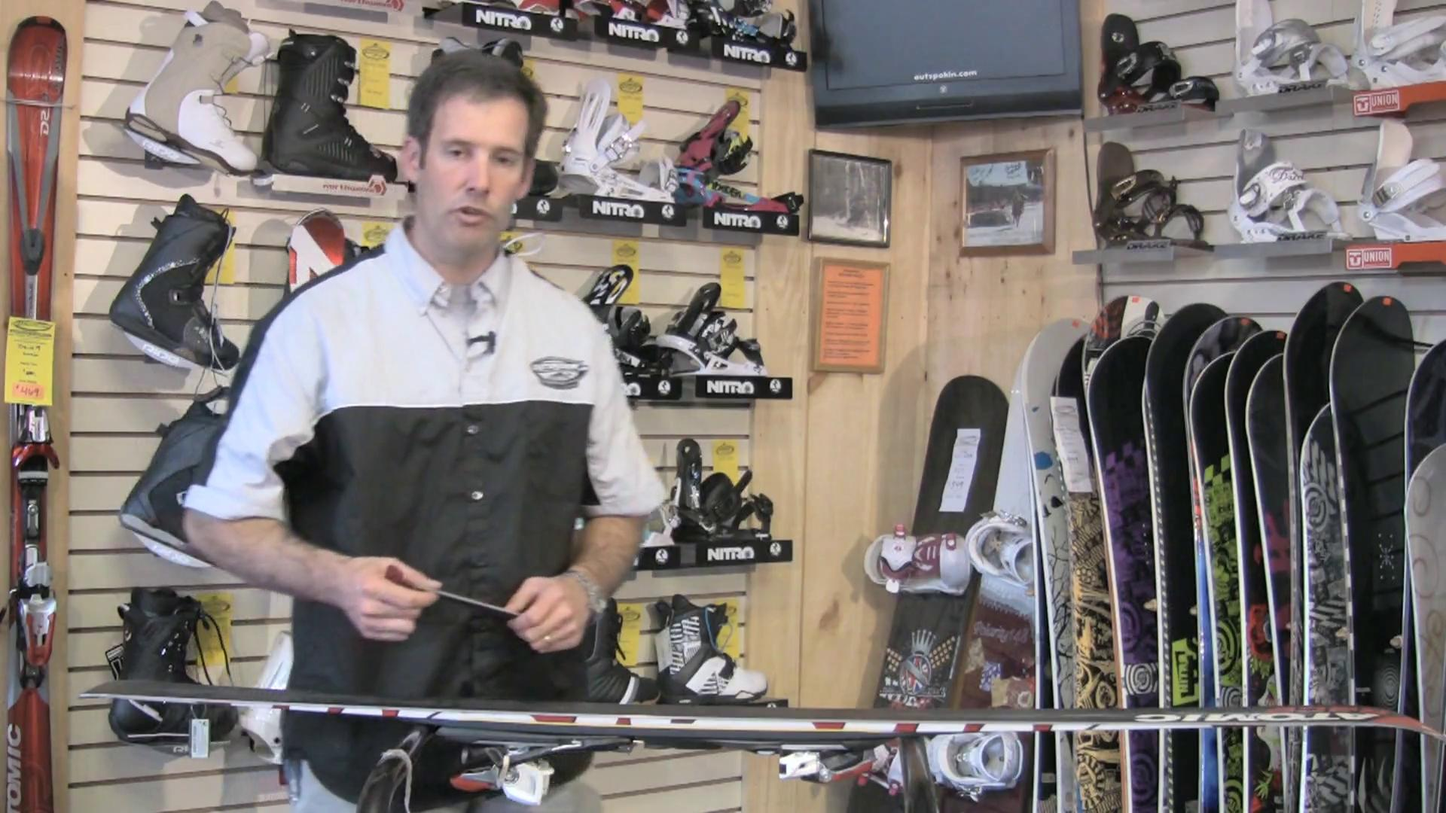victim: (176, 45, 660, 811)
